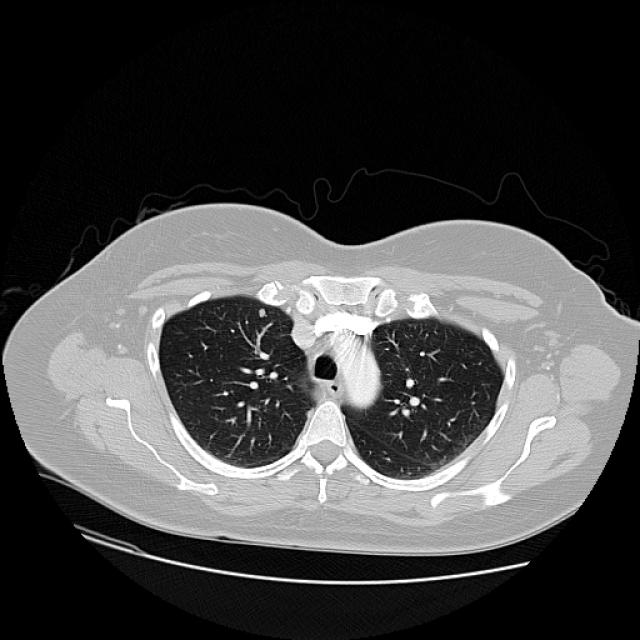nodule: (250, 301, 270, 321)
